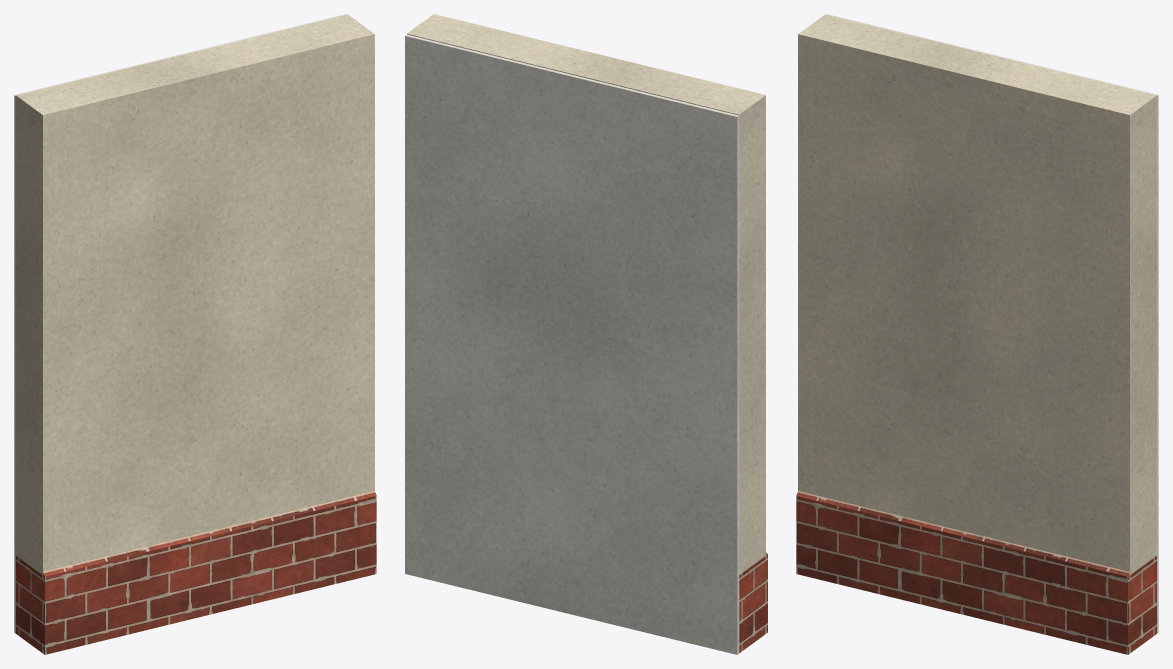
File: w_g_plain.glb
3 views of the same model, side by side, from view 1: azimuth 30°, elevation 25°; view 2: azimuth 150°, elevation 25°; view 3: azimuth 330°, elevation 25° (orthographic).
Visible parts, largest first — view 1: w_g_plain_render, w_g_plain_brick, w_g_plain_plaster; view 2: w_g_plain_plaster, w_g_plain_render, w_g_plain_brick; view 3: w_g_plain_render, w_g_plain_brick, w_g_plain_plaster.
Boxes of the visible parts, box(x1,y1,x2,y2) form: w_g_plain_render: box(16, 14, 374, 574); w_g_plain_brick: box(16, 491, 376, 654); w_g_plain_plaster: box(14, 14, 346, 633); w_g_plain_plaster: box(405, 34, 739, 654); w_g_plain_render: box(407, 14, 765, 574); w_g_plain_brick: box(739, 552, 767, 652); w_g_plain_render: box(798, 14, 1156, 574); w_g_plain_brick: box(796, 491, 1156, 654); w_g_plain_plaster: box(826, 14, 1158, 633).
Size of the model in its own units: 2 by 3.1 by 0.32.
3 materials, 3 textured.
